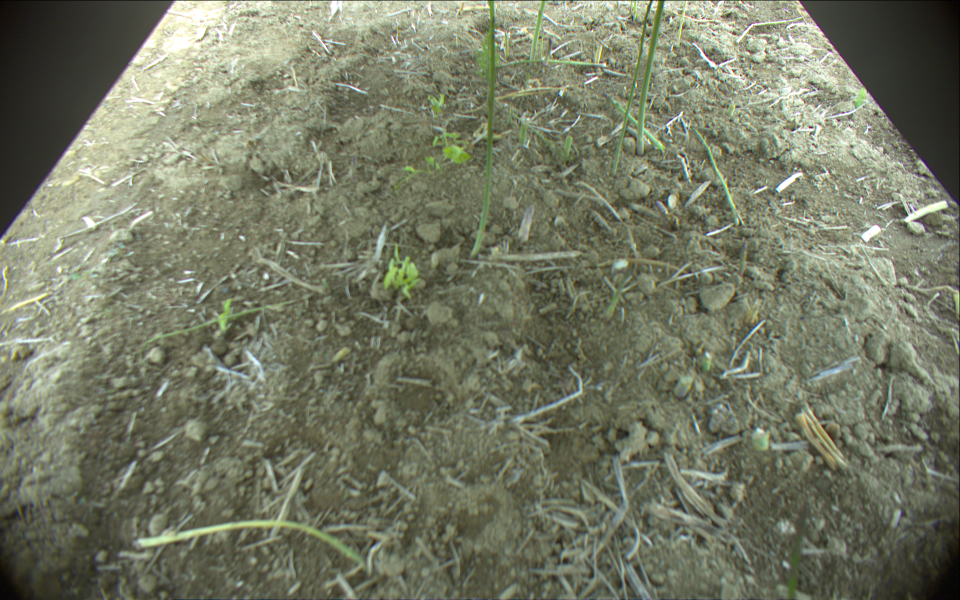aspa: (133, 518, 368, 568), (467, 1, 497, 261), (609, 1, 653, 176), (691, 127, 744, 225), (636, 1, 665, 156), (607, 89, 670, 155), (497, 54, 607, 68), (529, 1, 546, 62), (517, 204, 538, 245), (676, 1, 688, 43), (519, 111, 530, 148), (546, 35, 557, 69), (504, 26, 512, 61), (562, 136, 573, 159), (538, 32, 542, 59)
